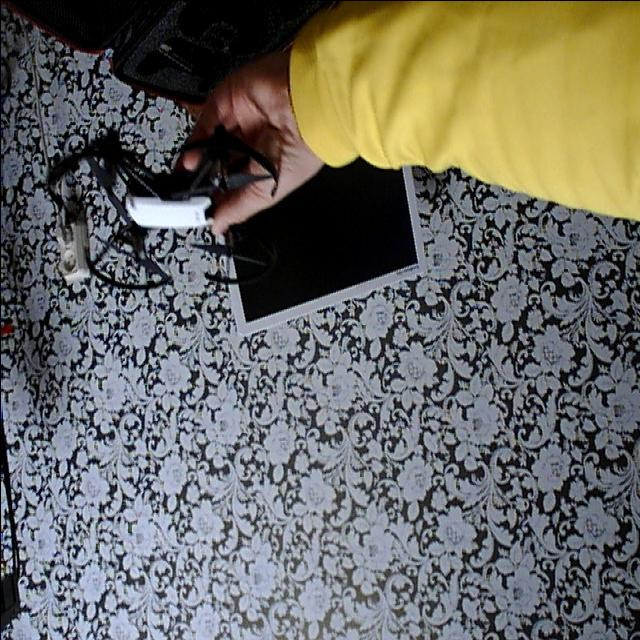drone: (28, 115, 278, 312)
